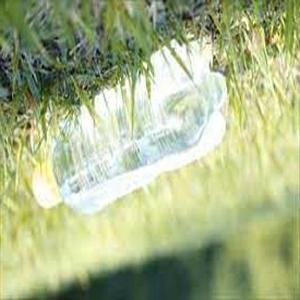Plastic: (28, 33, 229, 216)
